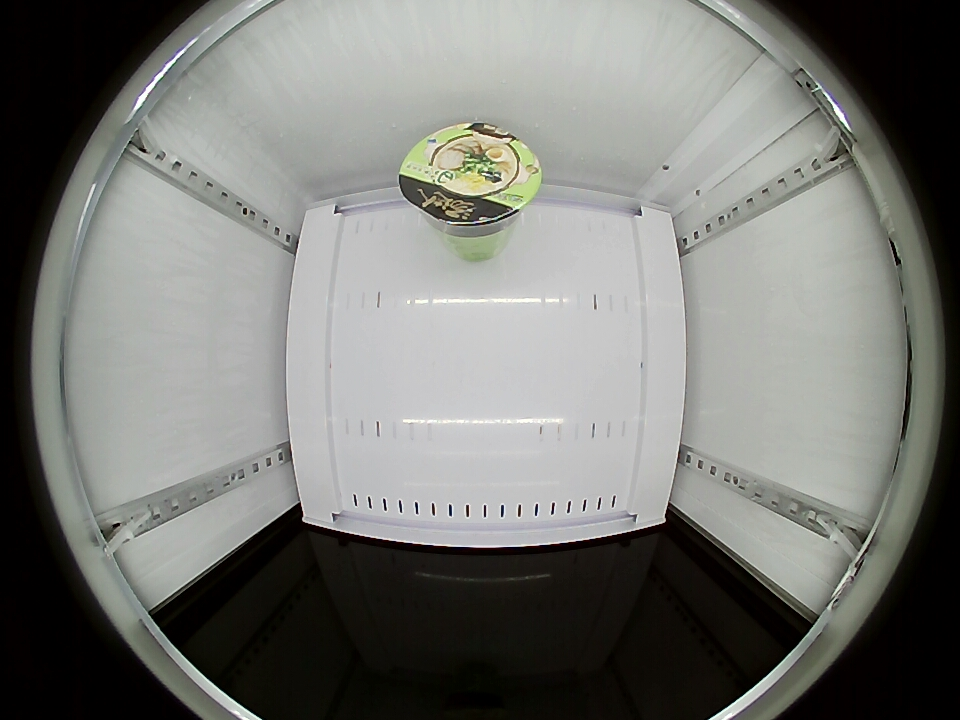tangdaren: (398, 122, 542, 242)
